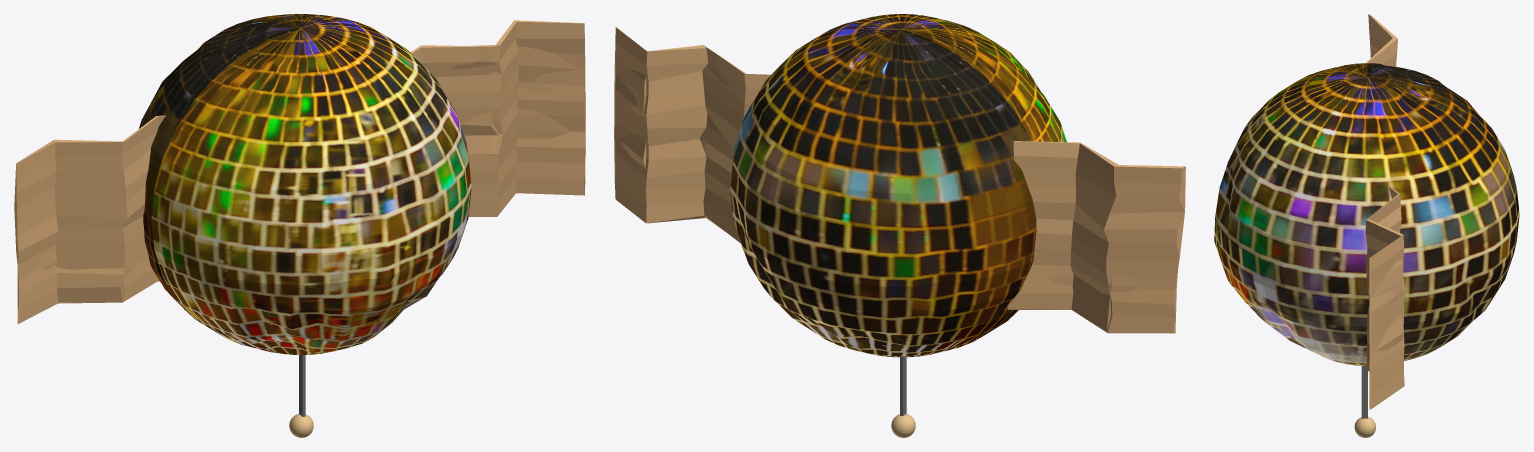
Rendered from satellite2.glb.
3 views of the same model, side by side, from view 1: azimuth 30°, elevation 25°; view 2: azimuth 150°, elevation 25°; view 3: azimuth 270°, elevation 25° (orthographic). The views are drawn at different scales.
Parts seen in each view (by area): view 1: Sphere, Cube; view 2: Sphere, Cube; view 3: Sphere, Cube, Sphere.001, Cube.001.
Boxes of the visible parts, x1,y1,x2,y2 form: Sphere: (139, 14, 471, 354); Cube: (14, 20, 585, 324); Sphere: (730, 14, 1066, 357); Cube: (614, 27, 1185, 333); Sphere: (1214, 63, 1519, 365); Cube: (1365, 14, 1404, 409); Sphere.001: (1354, 417, 1375, 437); Cube.001: (1361, 366, 1367, 418).
Bounding box in the file's own units: 3.65 × 2.49 × 1.91.
Materials: 4 (1 with a texture image).
